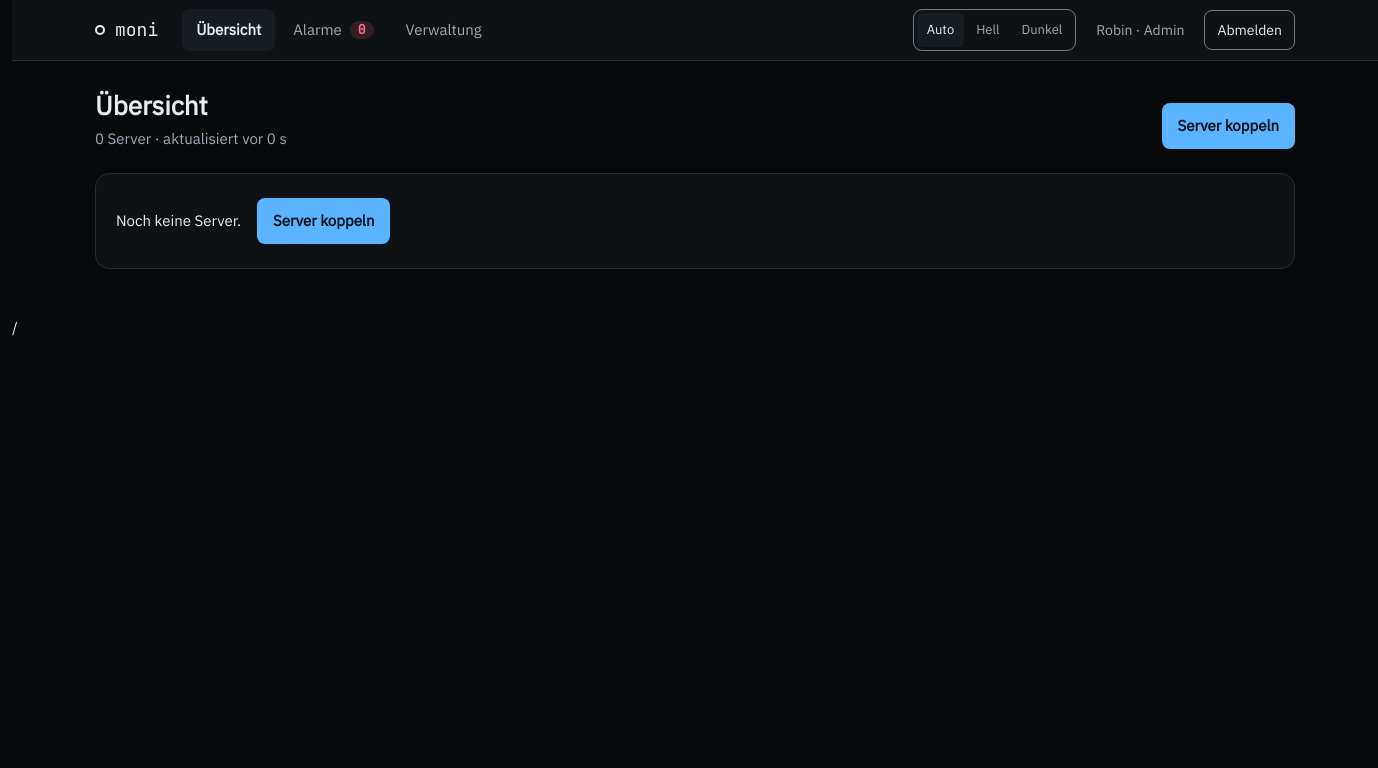
Sitzung › 401 auf den Logout-Aufruf selbst endet abgemeldet ohne Fehlerseite
Click the button "Abmelden". click: (1250, 30)
box: top-left (1204, 10), bottom-right (1295, 50)
(page scrolled)
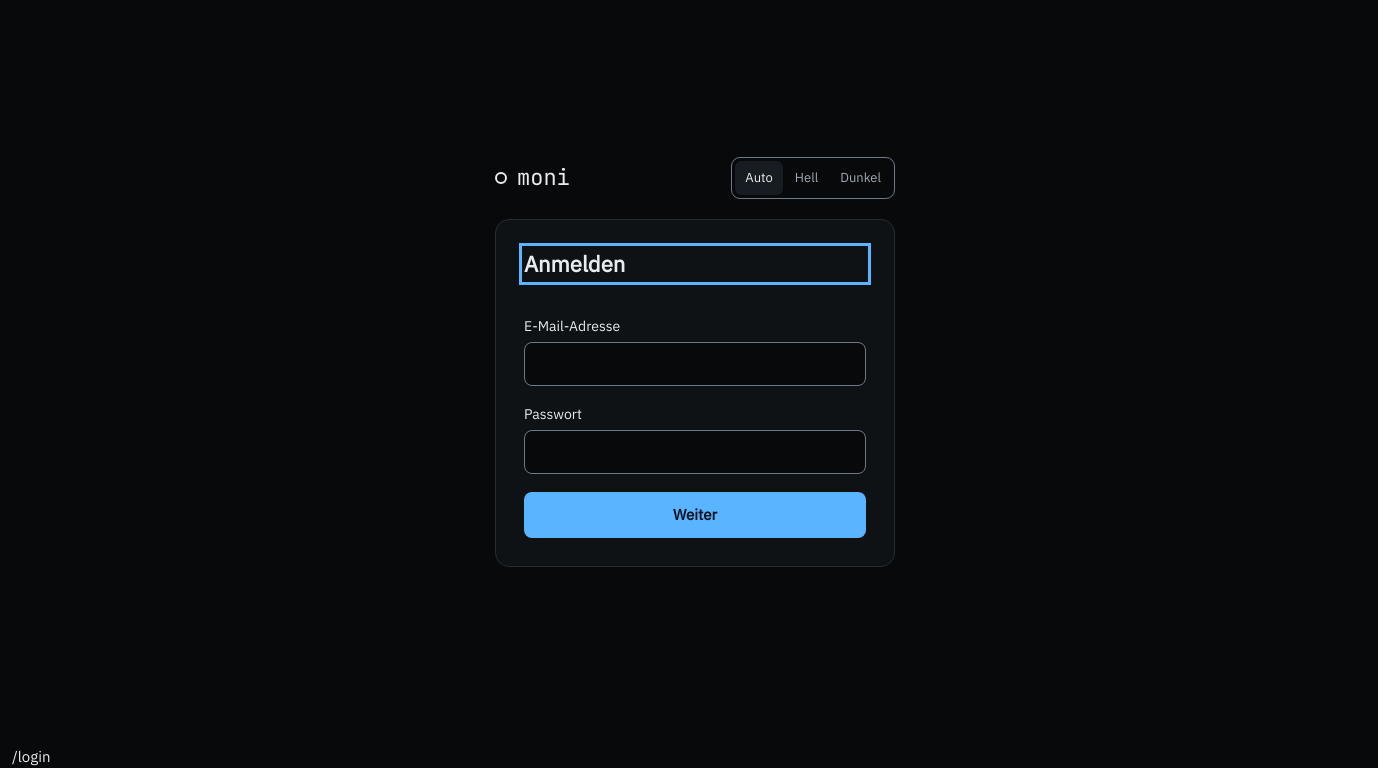
Expected: the heading "Anmelden" is shown, top-left (524, 249), bottom-right (625, 278)
Expected: the text with test id "ort" reads "/login", top-left (12, 747), bottom-right (50, 766)
